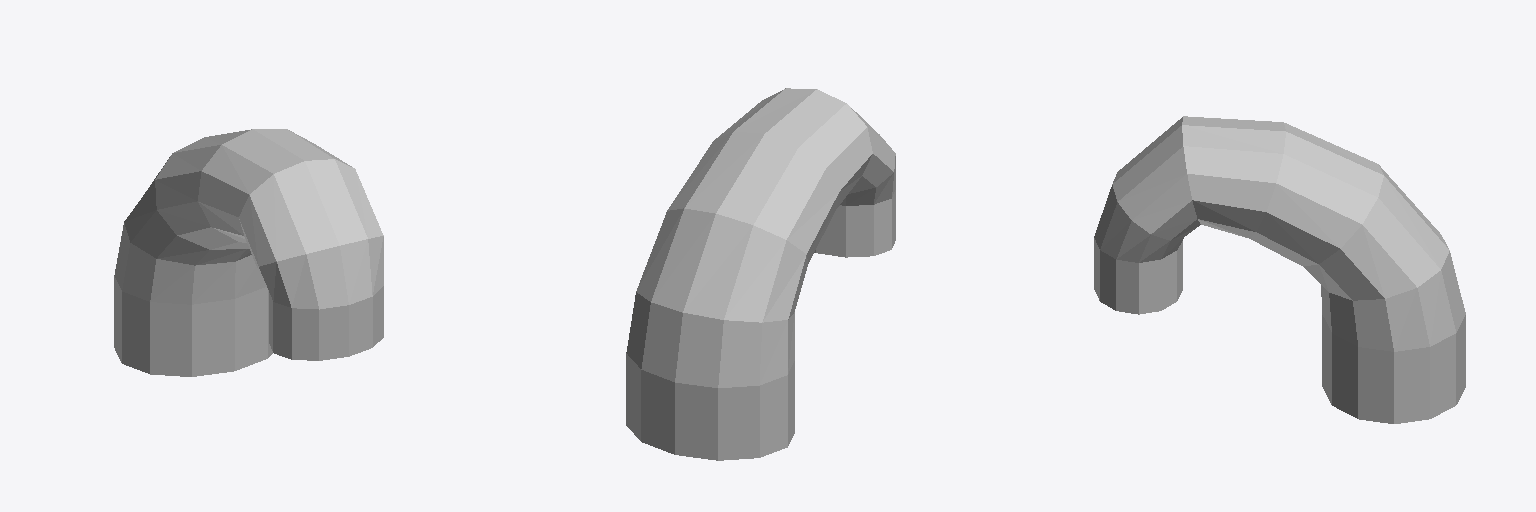
The model's file is sink_faucet_1.obj.
3 views of the same model, side by side, from view 1: azimuth 30°, elevation 25°; view 2: azimuth 150°, elevation 25°; view 3: azimuth 270°, elevation 25° (orthographic).
Size of the model in its own units: 1.23 by 2 by 2.58.